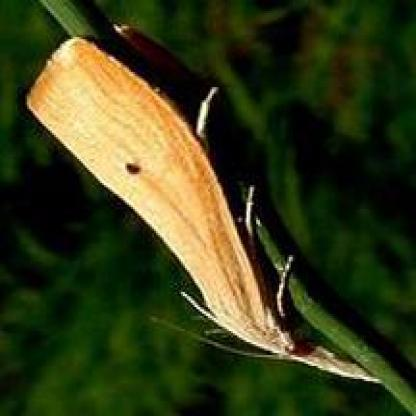stem-borer: (20, 29, 386, 392)
